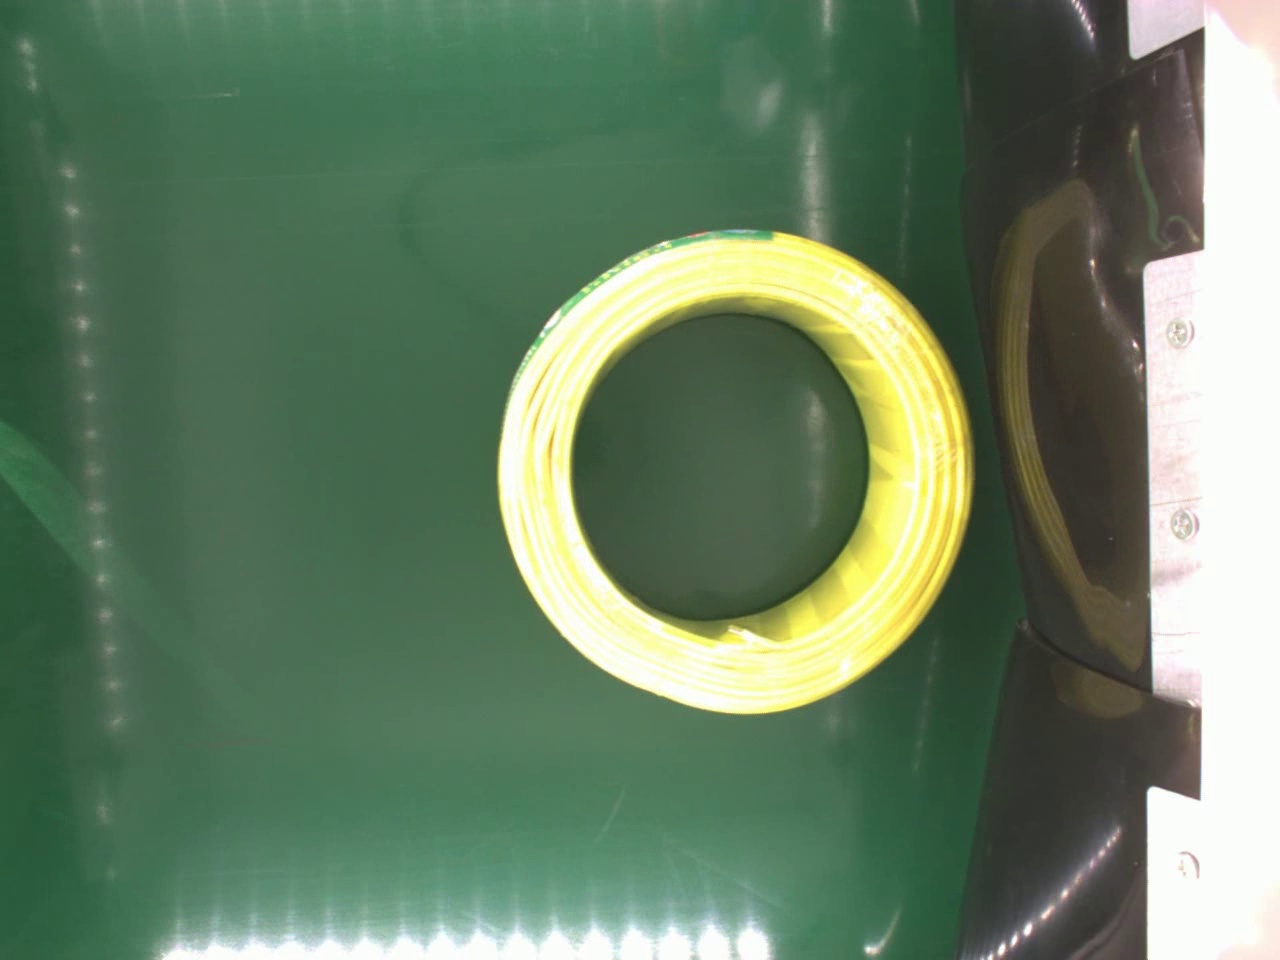yellow: (492, 222, 984, 717)
